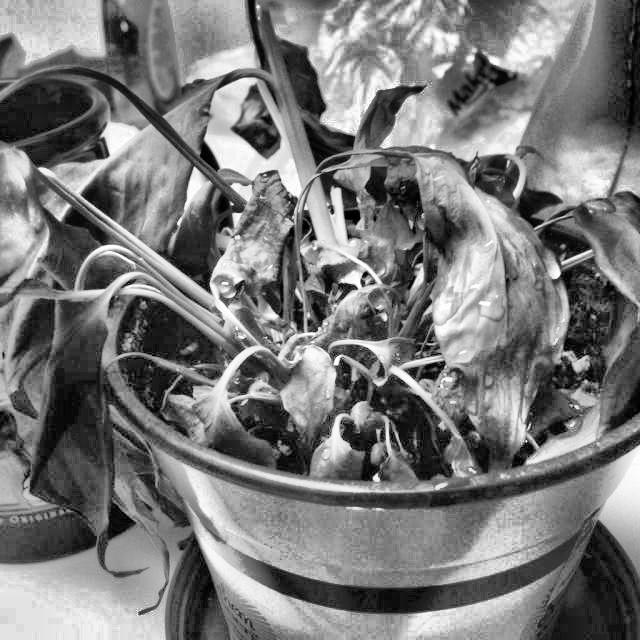plants: (0, 110, 639, 639), (380, 153, 554, 461)
